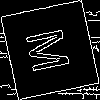M: (25, 24, 80, 75)
